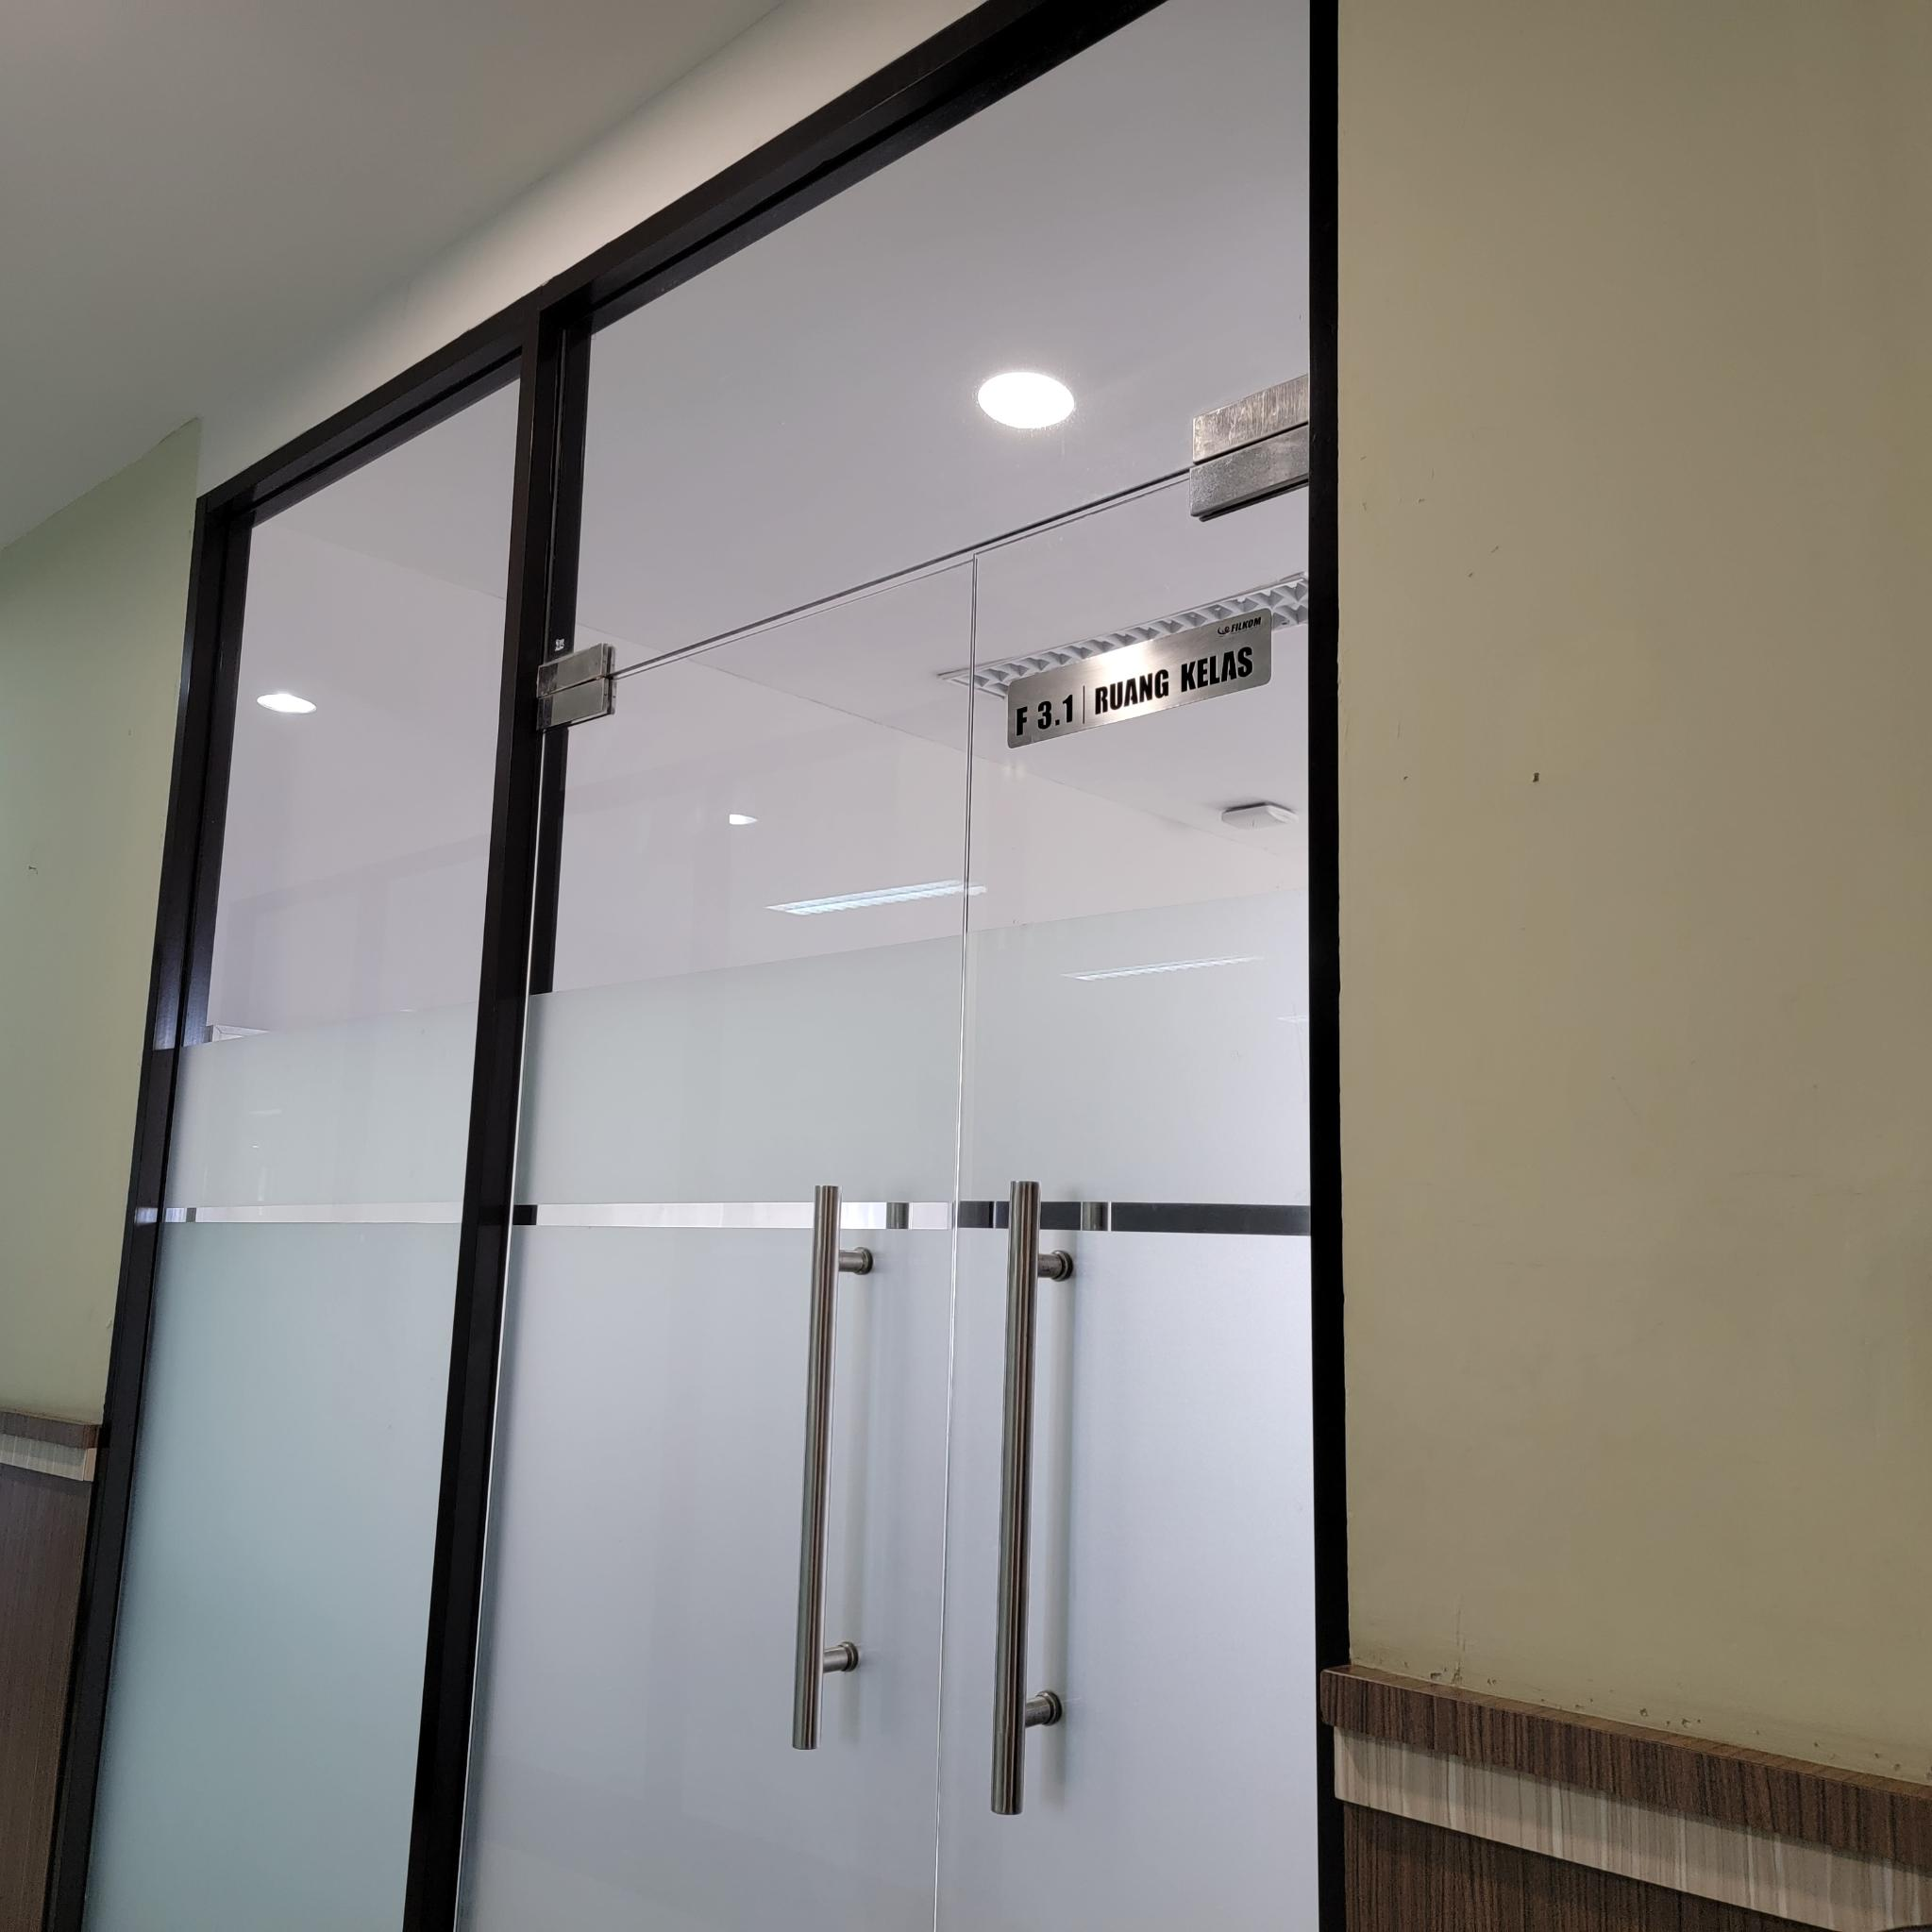plate: (1007, 609, 1272, 752)
